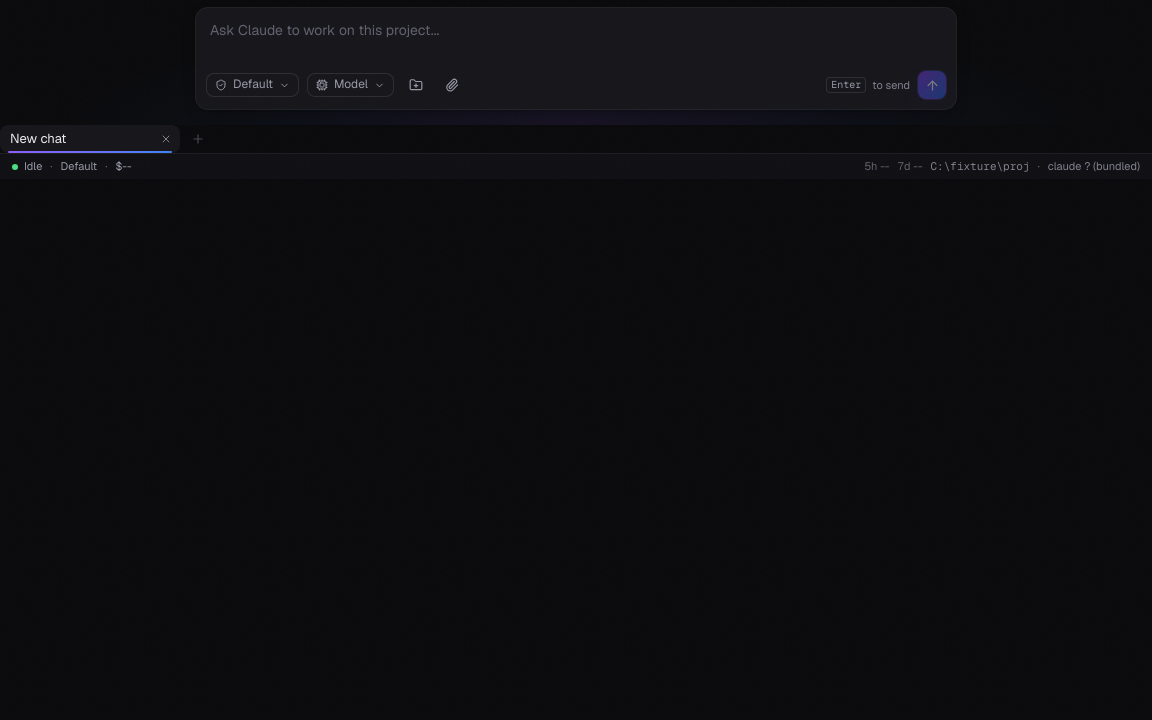
bypass confirm flow › confirming switches to Bypass and shows the danger indicator on chip, status bar and tab
Click the button with test id "mode-chip": {"x": 252, "y": 85} x1=206 y1=73 x2=299 y2=97
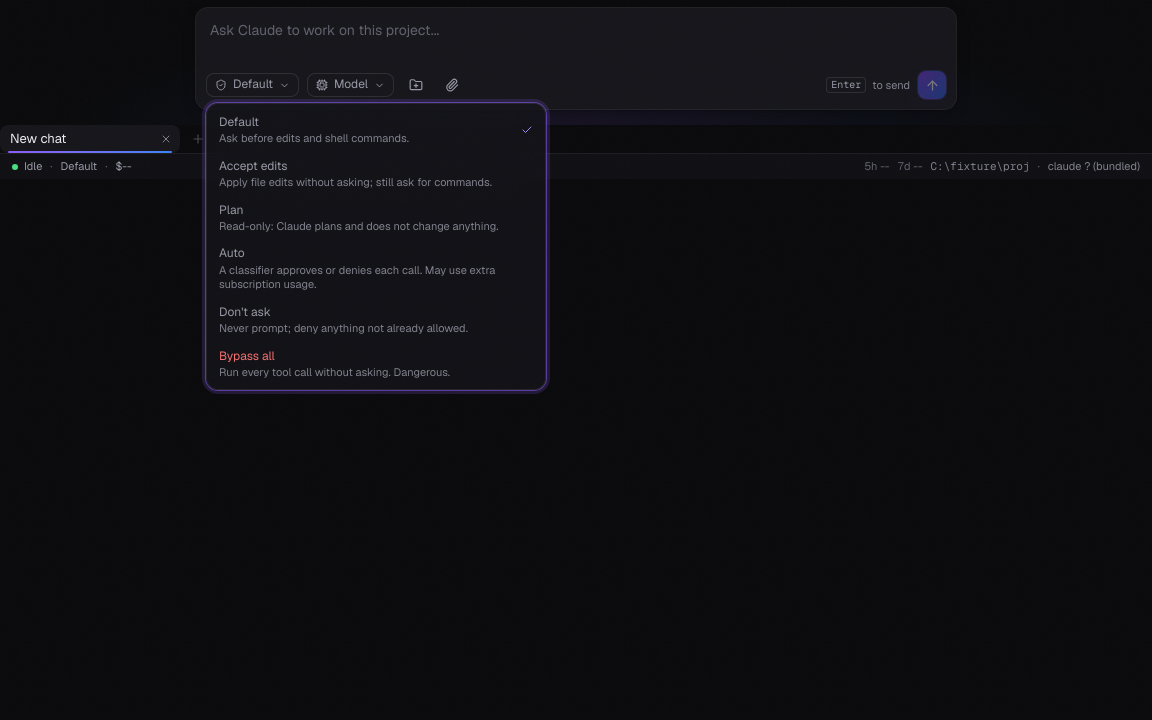
Click the menu item "Bypass all Run every tool call without asking. Dangerous.": {"x": 335, "y": 363} x1=219 y1=348 x2=450 y2=379
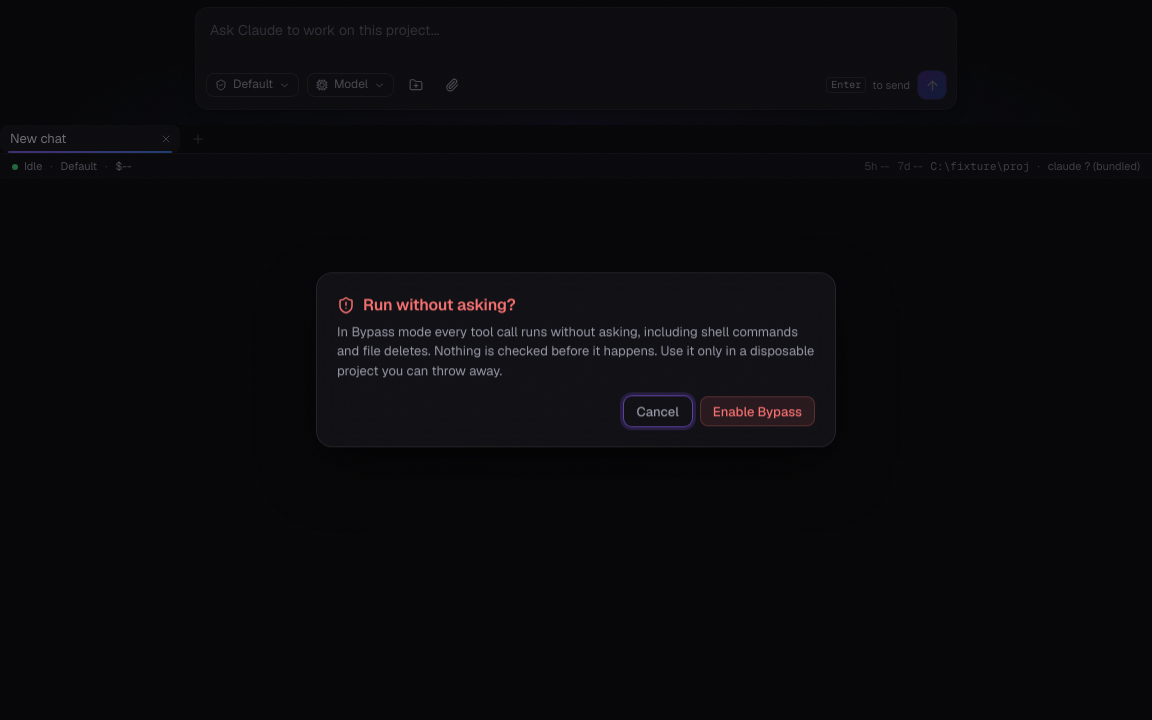
Click the button with test id "bypass-confirm-go": {"x": 757, "y": 412} x1=700 y1=397 x2=815 y2=427
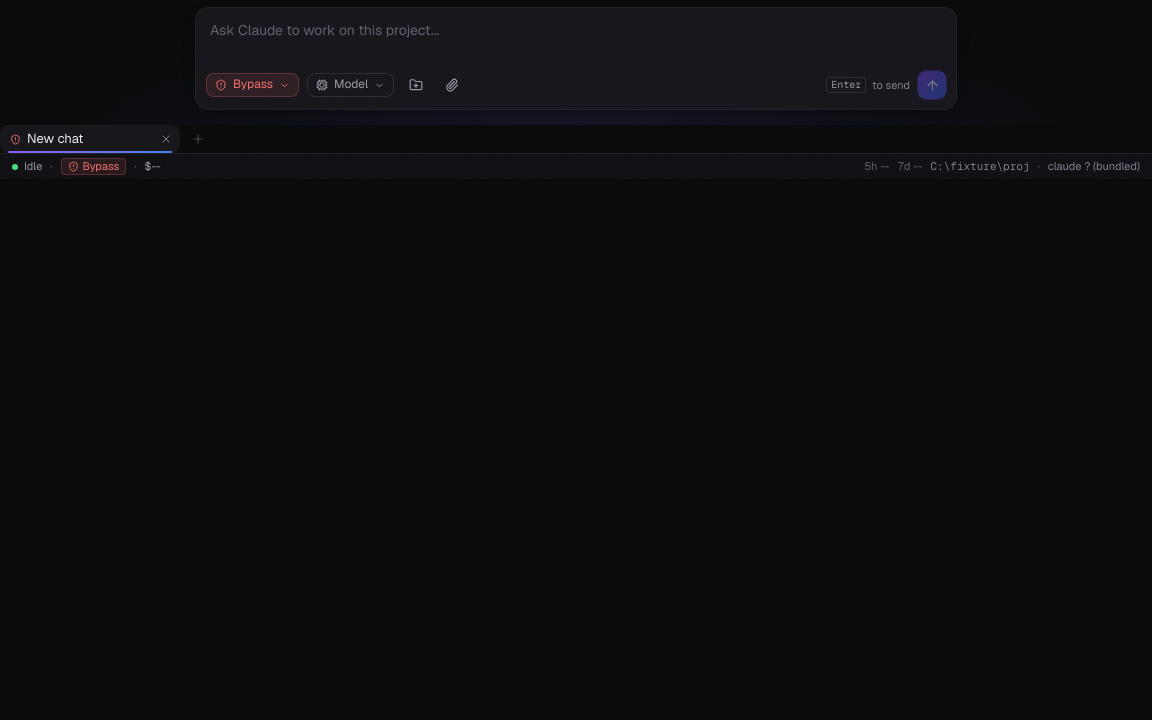
expect the icon with test id "tab-bypass" is shown: met, box x1=10 y1=134 x2=21 y2=144
